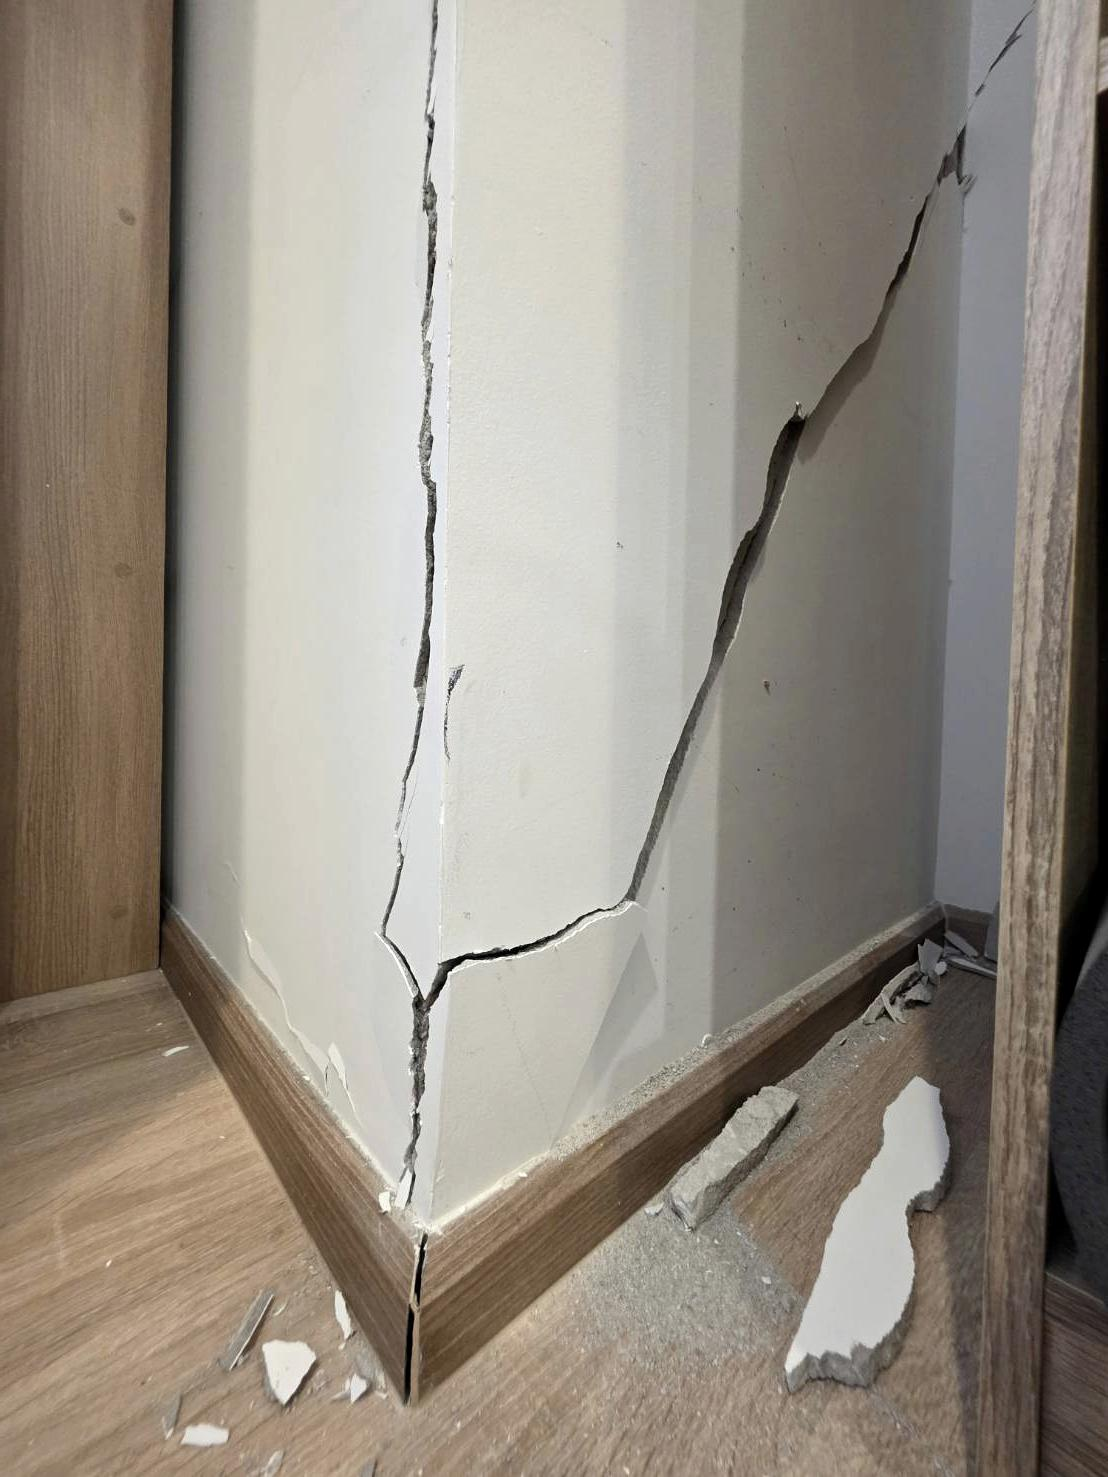High: (260, 2, 1015, 1411)
